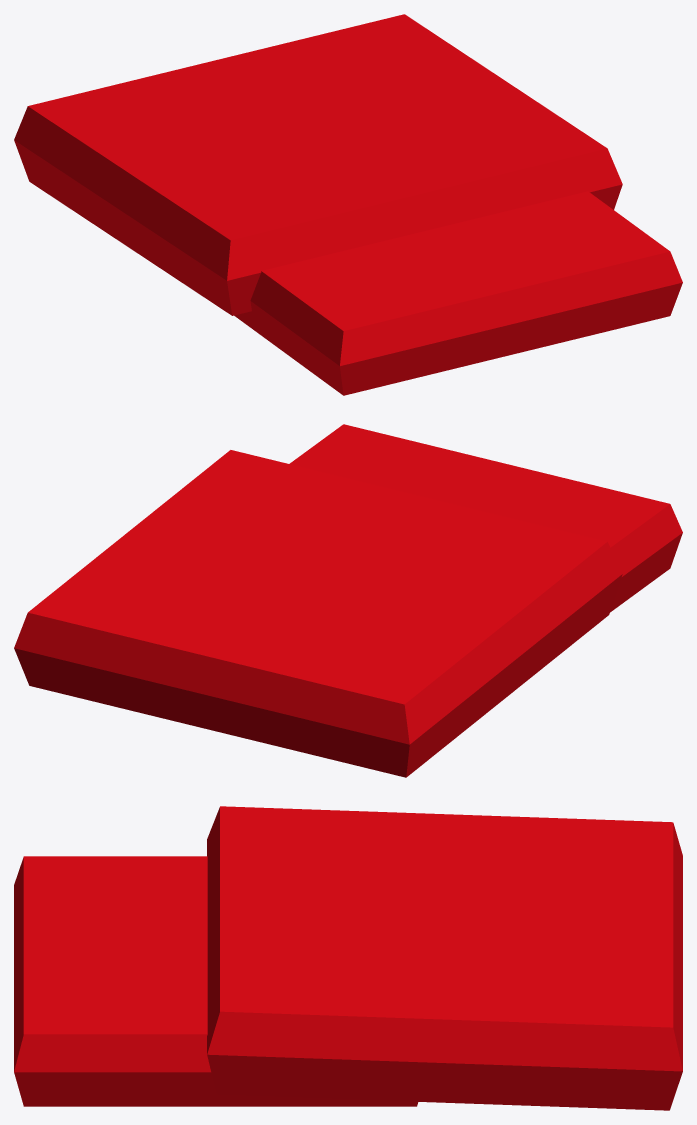
Rendered from tomatico.glb.
3 views of the same model, one above another, from view 1: azimuth 30°, elevation 25°; view 2: azimuth 150°, elevation 25°; view 3: azimuth 270°, elevation 25° (orthographic). The views are drawn at different scales.
Visible parts, largest first — view 1: tomatico2, tomatico; view 2: tomatico2, tomatico; view 3: tomatico2, tomatico.
Boxes of the visible parts, x1=… form: tomatico2: x1=14, y1=14, x2=622, y2=315; tomatico: x1=234, y1=191, x2=682, y2=395; tomatico2: x1=14, y1=450, x2=622, y2=777; tomatico: x1=289, y1=424, x2=682, y2=612; tomatico2: x1=207, y1=806, x2=682, y2=1110; tomatico: x1=14, y1=856, x2=418, y2=1106.
Size of the model in its own units: 1.56 by 0.3653 by 2.04.
